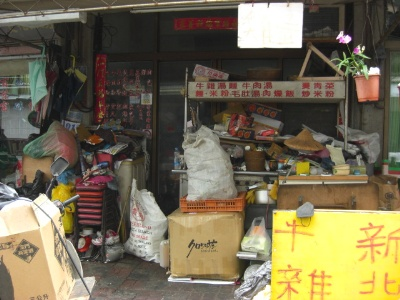bowl: (255, 188, 277, 206)
box: (1, 195, 76, 300), (168, 210, 244, 284)
bucket: (244, 148, 267, 173)
plastic_bag: (182, 124, 240, 202), (123, 178, 169, 266), (240, 215, 271, 256)
